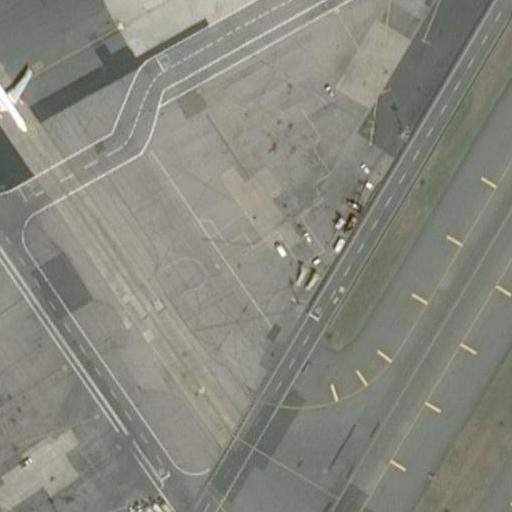Aircraft: (0, 46, 38, 132)
